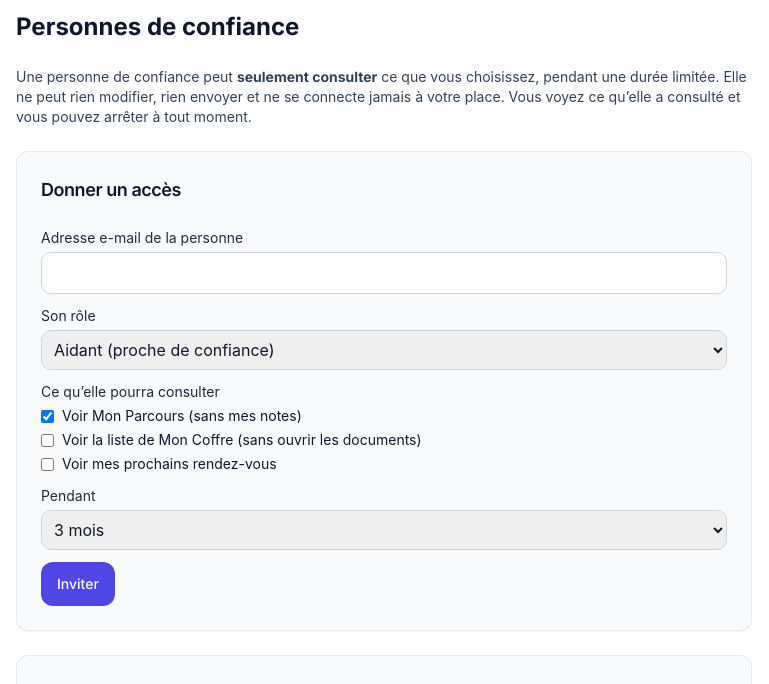
Test: Personnes de confiance › invites with the chosen role, scopes and duration; without an e-mail provider the link is shown to transmit
In the field with test id "delegation-email": (384,273) [41,252,727,294], type "ami@example.test"
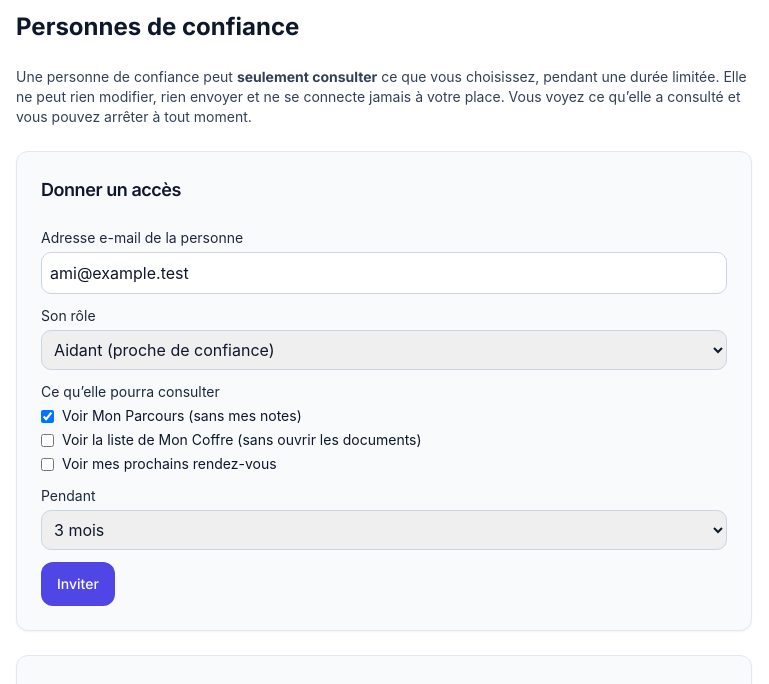
Click the checkbox with test id "delegation-scope-COFFRE_LIST": (48,440) [41,434,54,446]
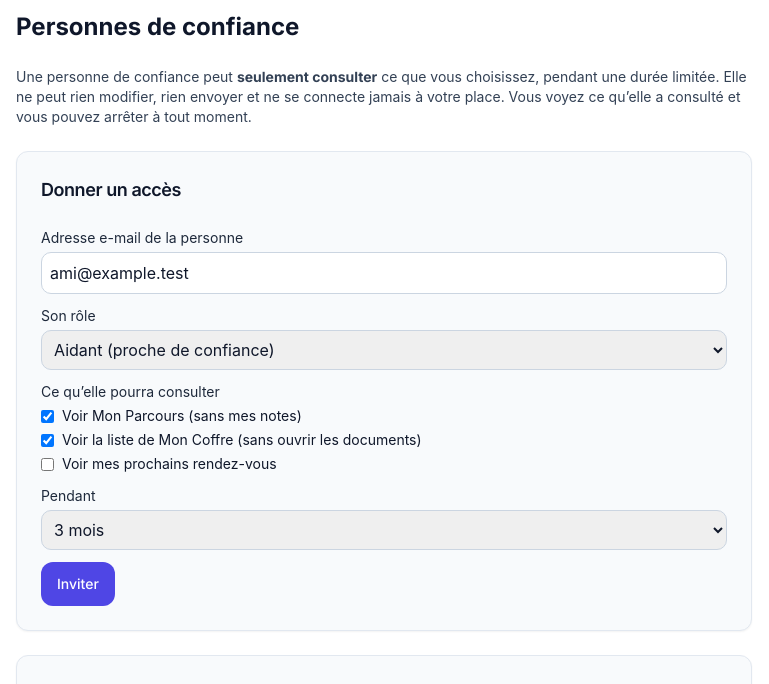
Select "30 jours" in the dropdown with test id "delegation-days": (384,530) [41,510,727,550]
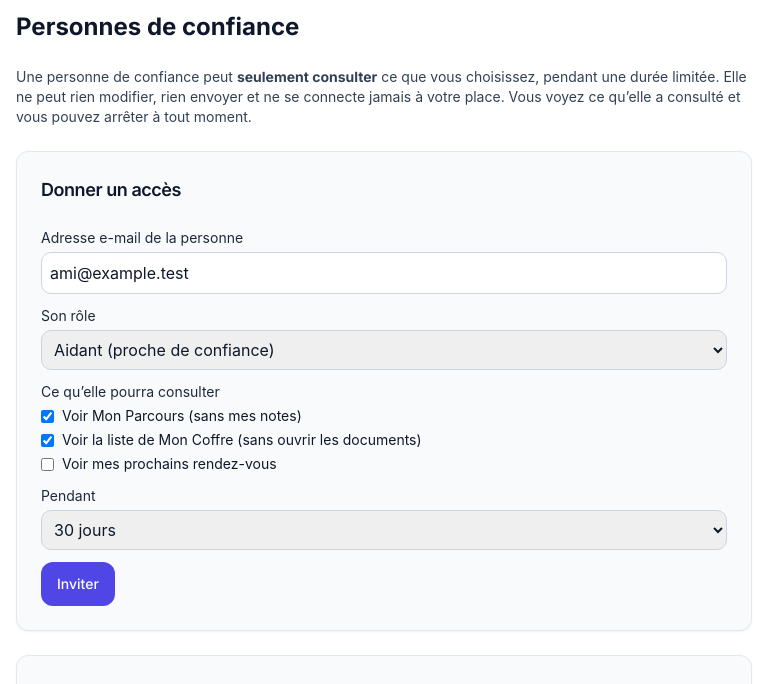
Click the button with test id "delegation-invite": (78,584) [41,562,115,606]
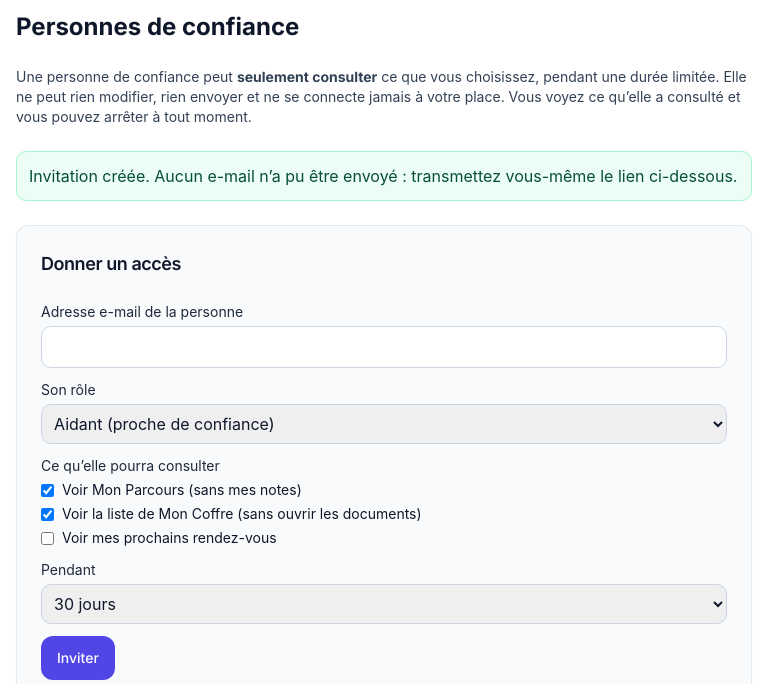
Expected: the message with test id "delegation-status" shows "Aucun e-mail n’a pu être envoyé", [29,166,737,186]
